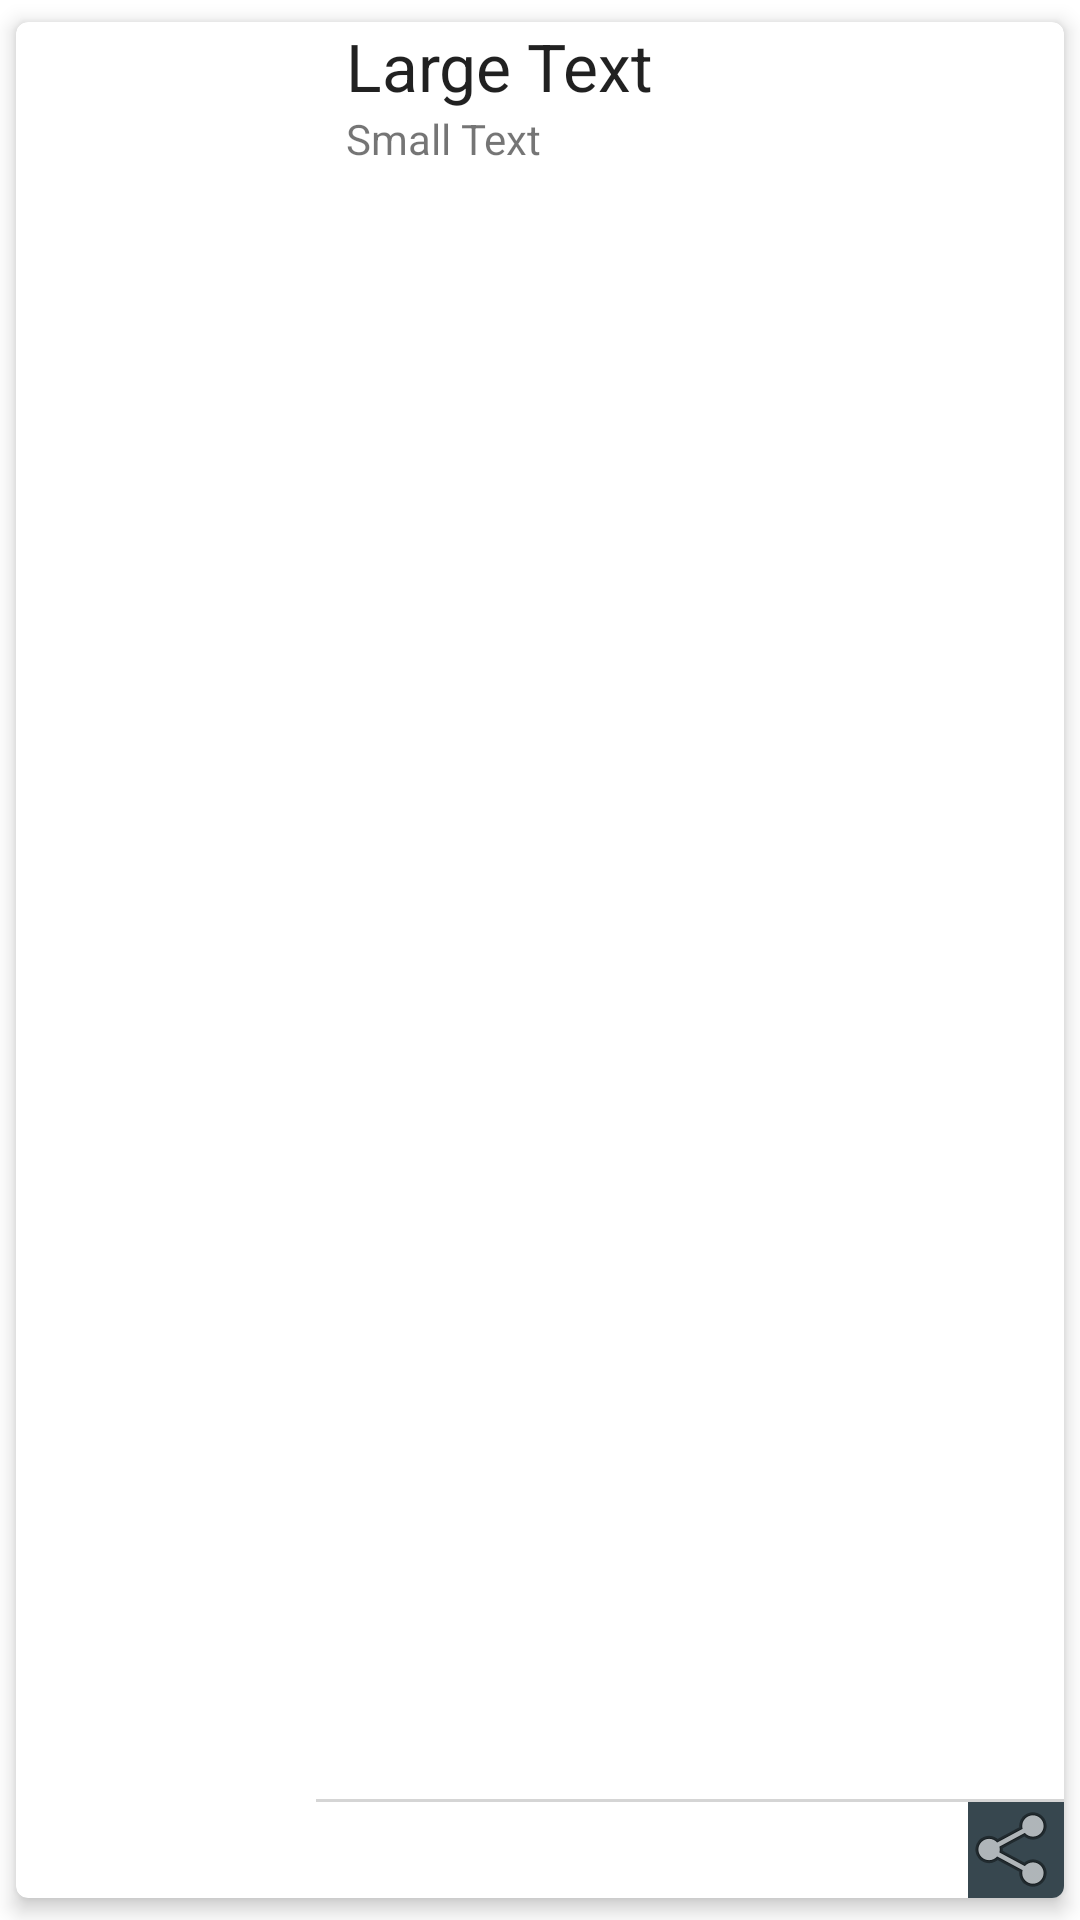

Icon click points for this 1080x1920 phone screenshot, format (x,y):
share: (1016,1850)
